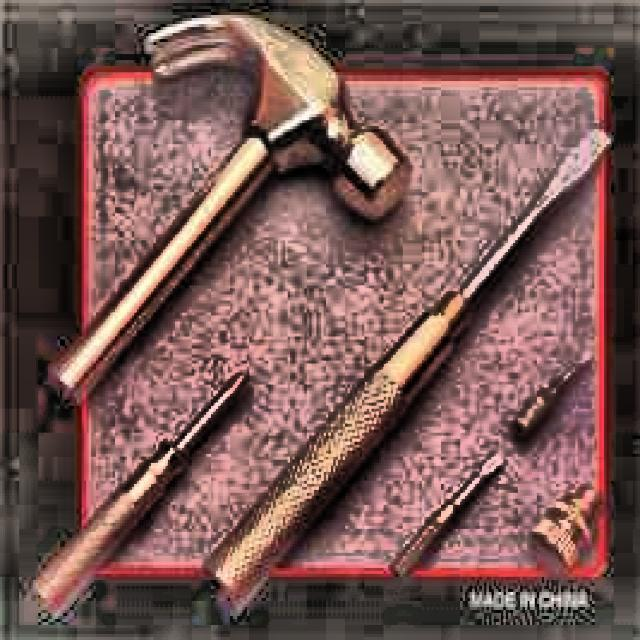hammer: (46, 12, 410, 404)
